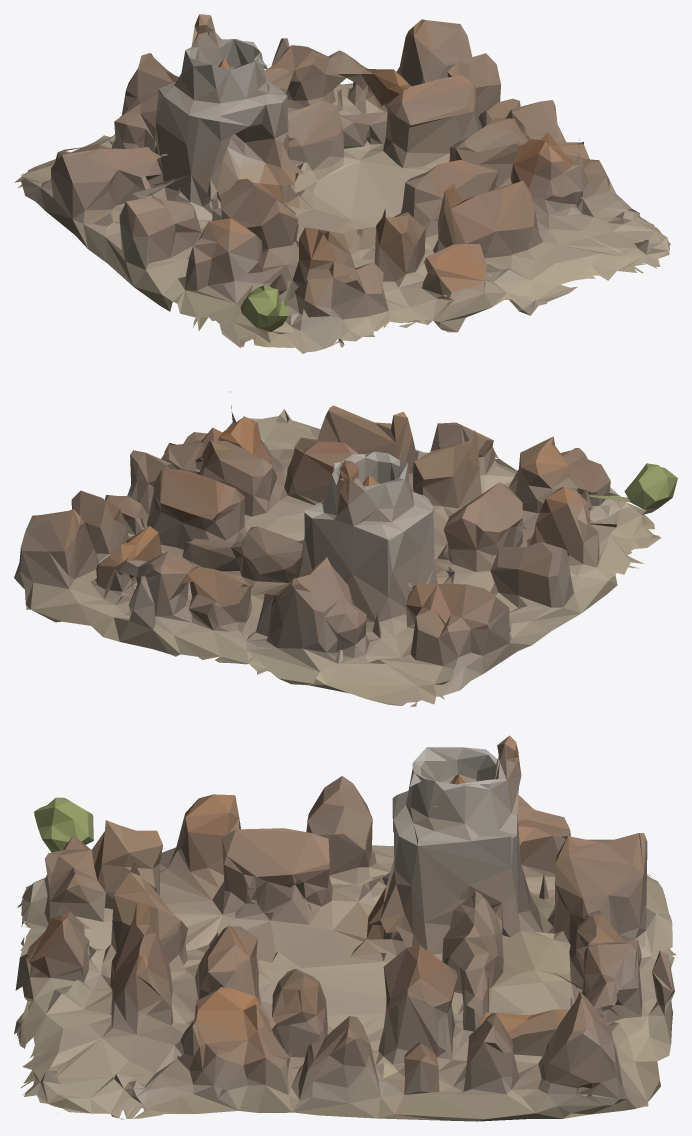
The model's file is human_city.glb.
The picture shows the model from 3 angles, top to bottom: view 1: azimuth 30°, elevation 25°; view 2: azimuth 150°, elevation 25°; view 3: azimuth 270°, elevation 25°; orthographic projection. The views are drawn at different scales.
Visible parts, largest first — view 1: geometry_0; view 2: geometry_0; view 3: geometry_0.
Part boxes in pixels (<box>): geometry_0: <box>14,14,670,353</box>; geometry_0: <box>14,391,677,706</box>; geometry_0: <box>14,735,676,1121</box>.
Size of the model in its own units: 1.81 by 0.703 by 1.9.
